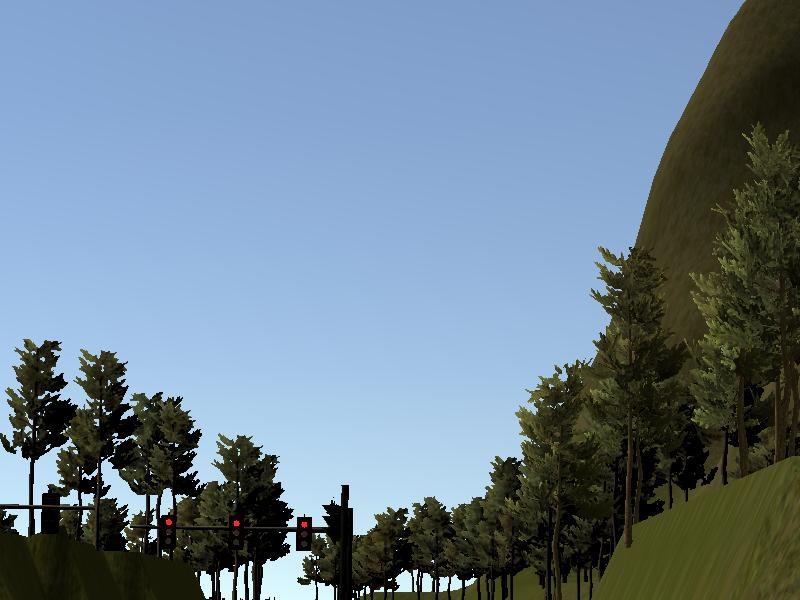RED: (158, 513, 177, 551), (226, 513, 245, 551), (294, 516, 313, 554)
